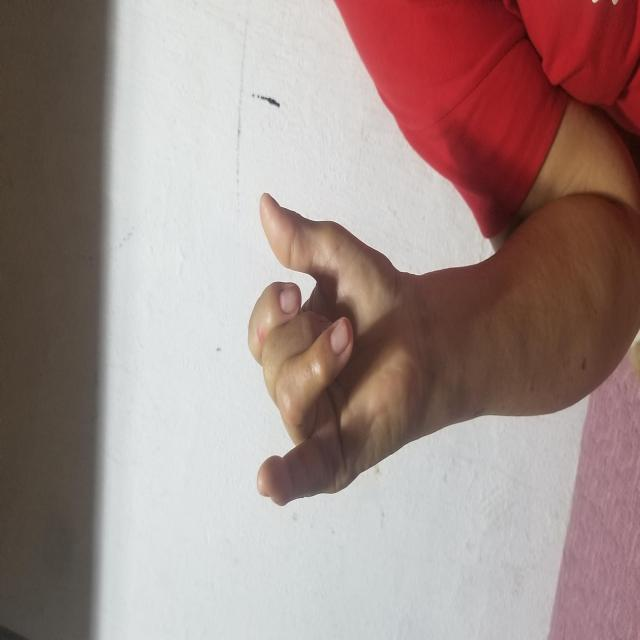Y: (190, 163, 487, 561)
